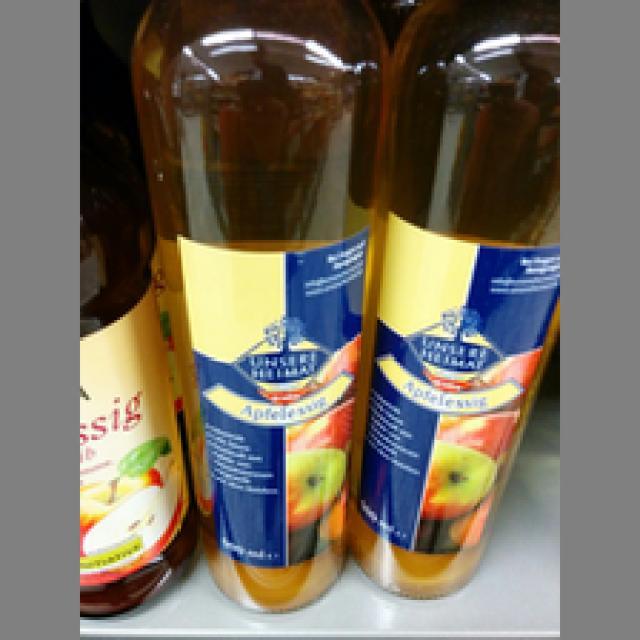groceries: (128, 0, 368, 609), (352, 0, 557, 597)
